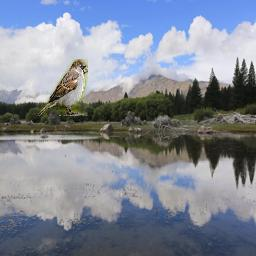Sparrow: (36, 60, 88, 117)
